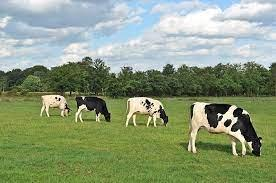cow: (187, 102, 262, 157), (125, 98, 169, 129), (75, 94, 112, 124), (42, 95, 70, 118)
